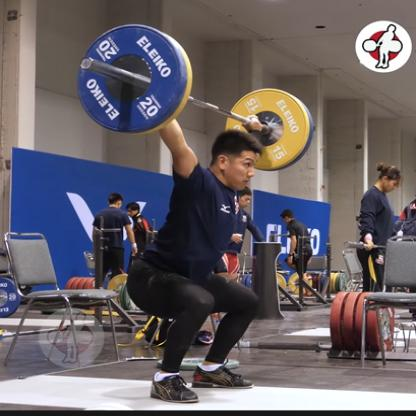Barbell: (73, 19, 198, 140)
